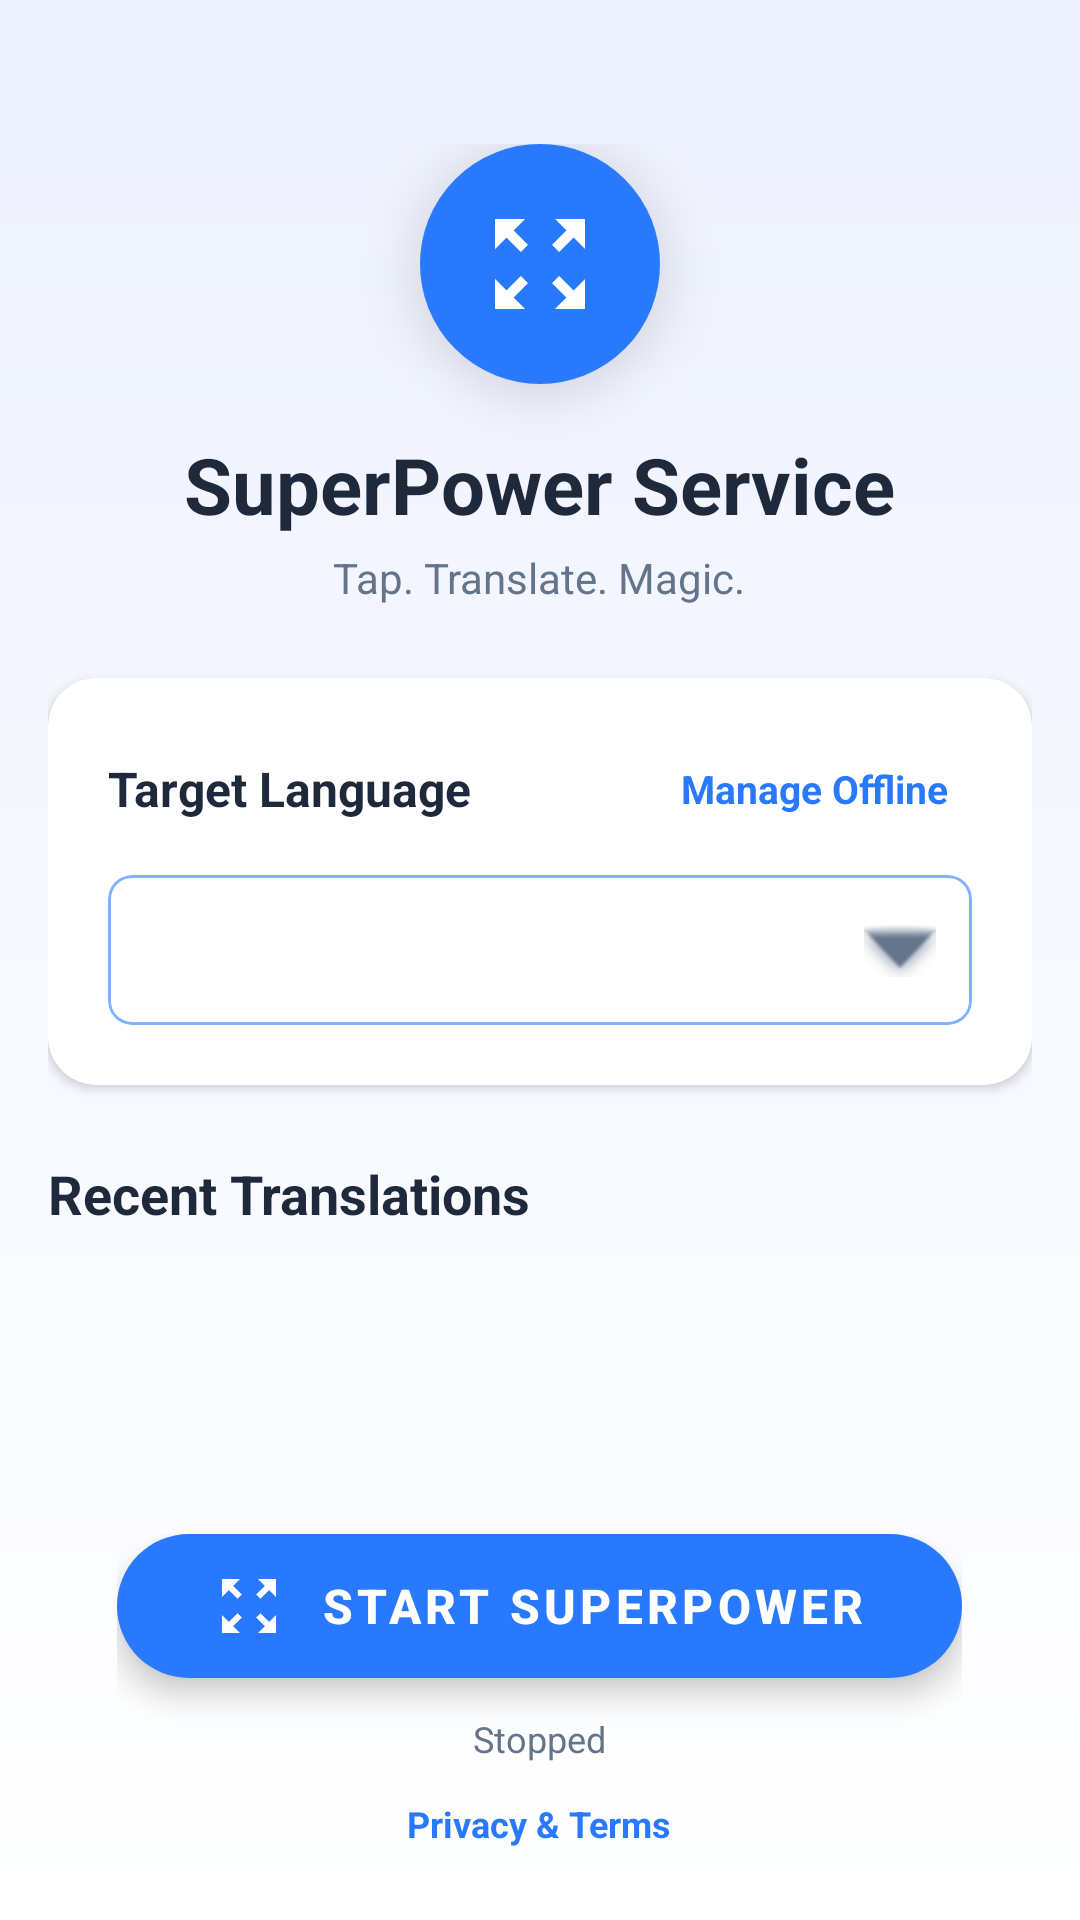

Where to tap for icons on this 1080 x 1920 app screen, as (x=x, y=y):
arrow down float: (x=900, y=949)
scan: (x=540, y=264)
